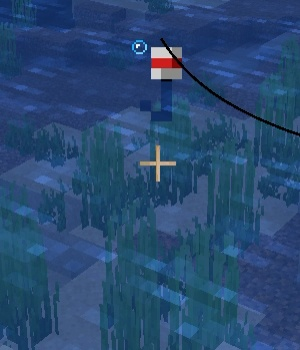up: (142, 41, 187, 130)
